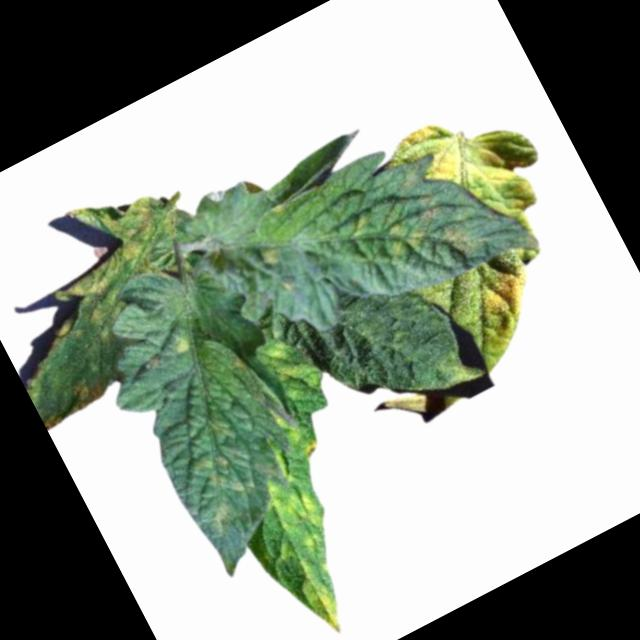Leaf_Mold: (5, 163, 213, 344), (392, 82, 571, 272), (448, 244, 554, 355), (336, 190, 433, 283), (261, 467, 337, 558), (290, 573, 352, 640), (253, 239, 285, 274), (167, 331, 192, 359)
